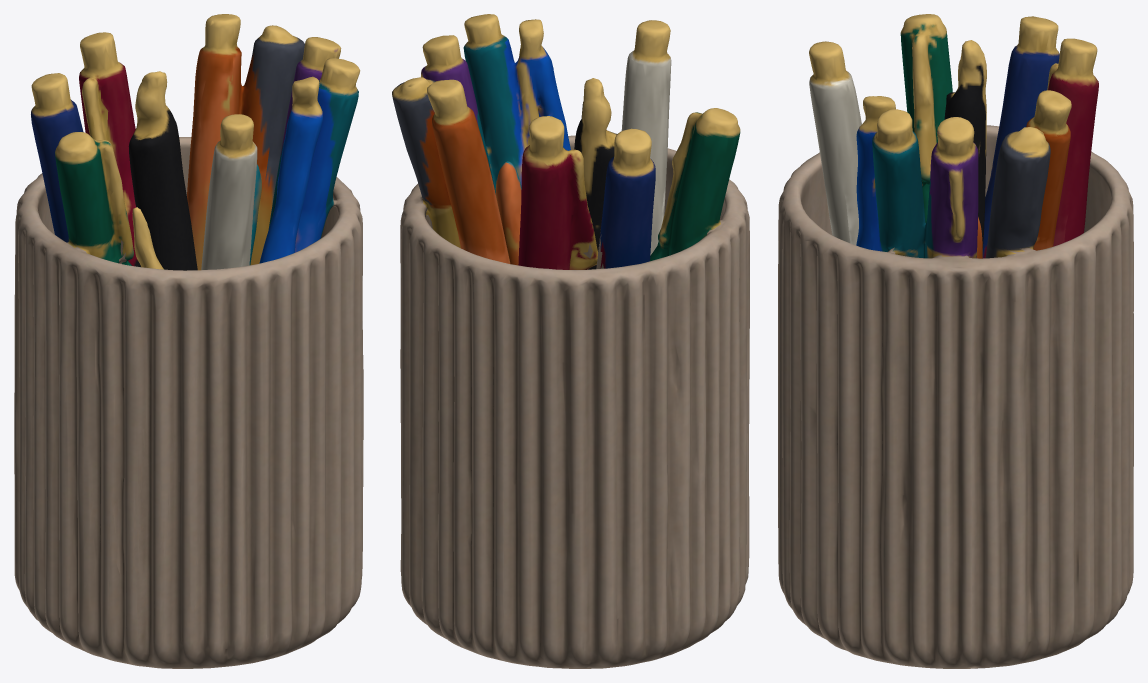
Rendered from pen-holder-table-ready.glb.
The picture shows the model from 3 angles, left to right: view 1: azimuth 30°, elevation 25°; view 2: azimuth 150°, elevation 25°; view 3: azimuth 270°, elevation 25°; orthographic projection. The views are drawn at different scales.
Parts seen in each view (by area): view 1: pen_holder; view 2: pen_holder; view 3: pen_holder.
Part boxes in pixels (left/top/right/bottom): pen_holder: left=14, top=14, right=363, bottom=668; pen_holder: left=392, top=14, right=749, bottom=668; pen_holder: left=778, top=14, right=1133, bottom=668.
Bounding box in the file's own units: 0.0779 × 0.1332 × 0.0774.
Materials: 1 (1 with a texture image).
